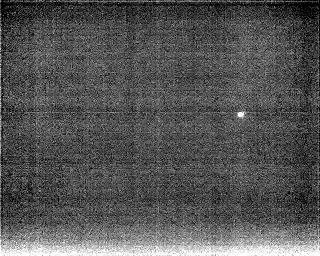AIRPLANE: (235, 109, 246, 120)
